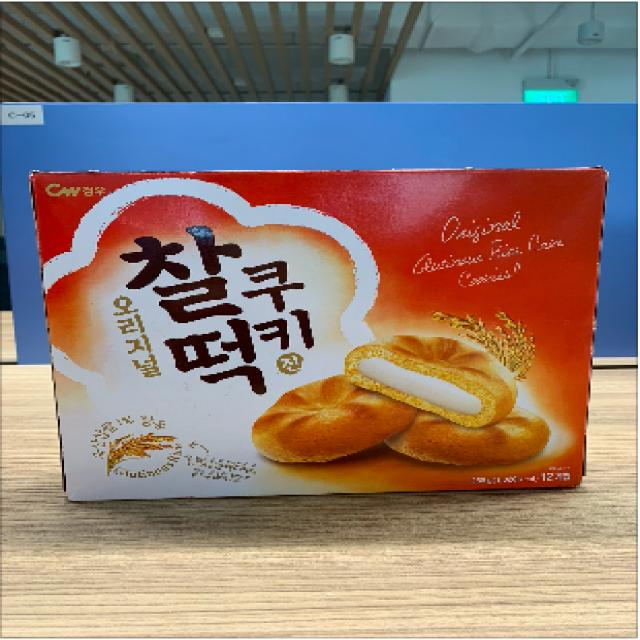object_name: (42, 172, 589, 488)
